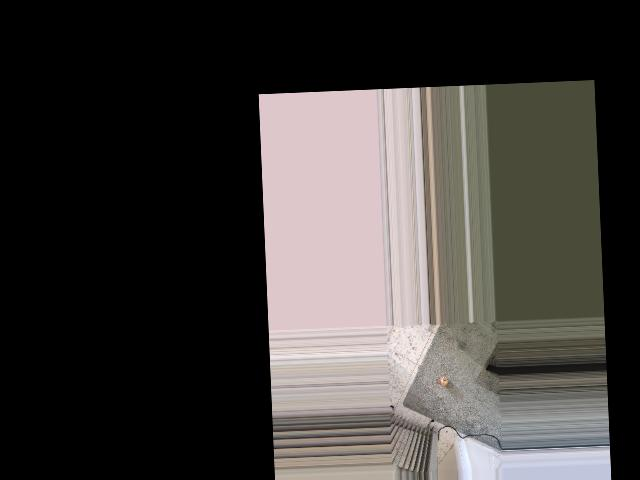onion: (439, 375, 448, 387)
